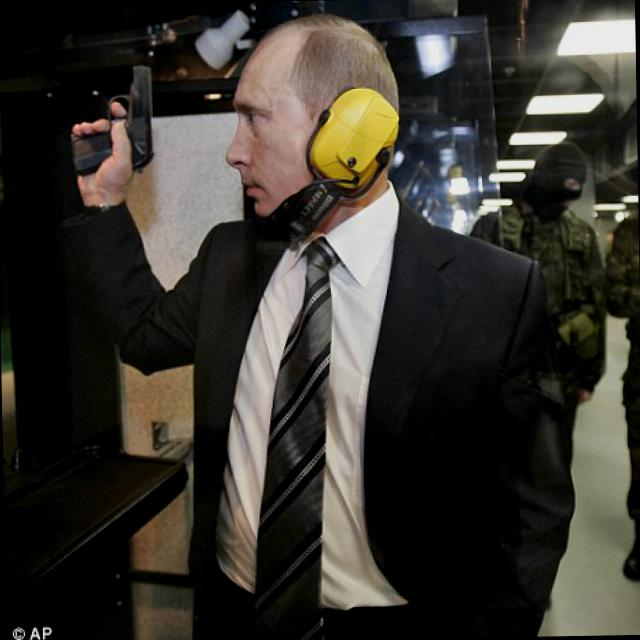handgun: (66, 62, 154, 176)
